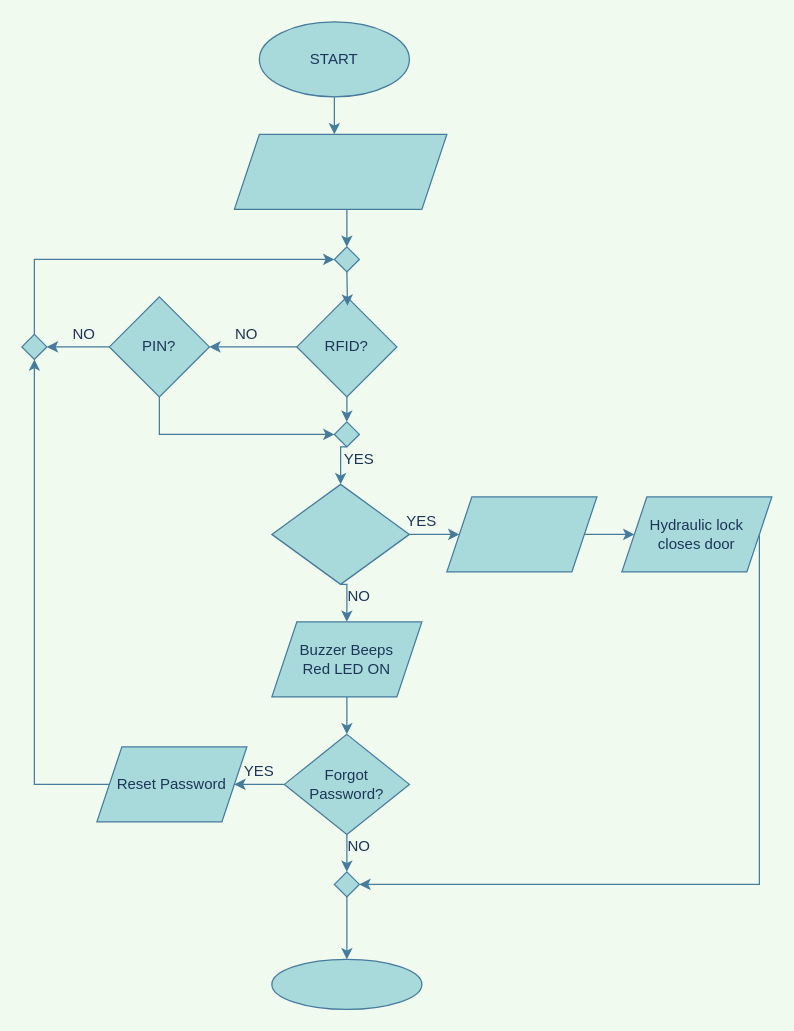
Some shapes in this 794 by 1031 pixel diagram are drawn without their labels. Here are the shapes that lost their labels. From the top down, the centre of each, then its label:
At [340,171]: "Initialize system (set up RFID, power up)".
At [340,533]: "Authorized?".
At [521,534]: "Demagnetize & open door".
At [346,983]: "END".
